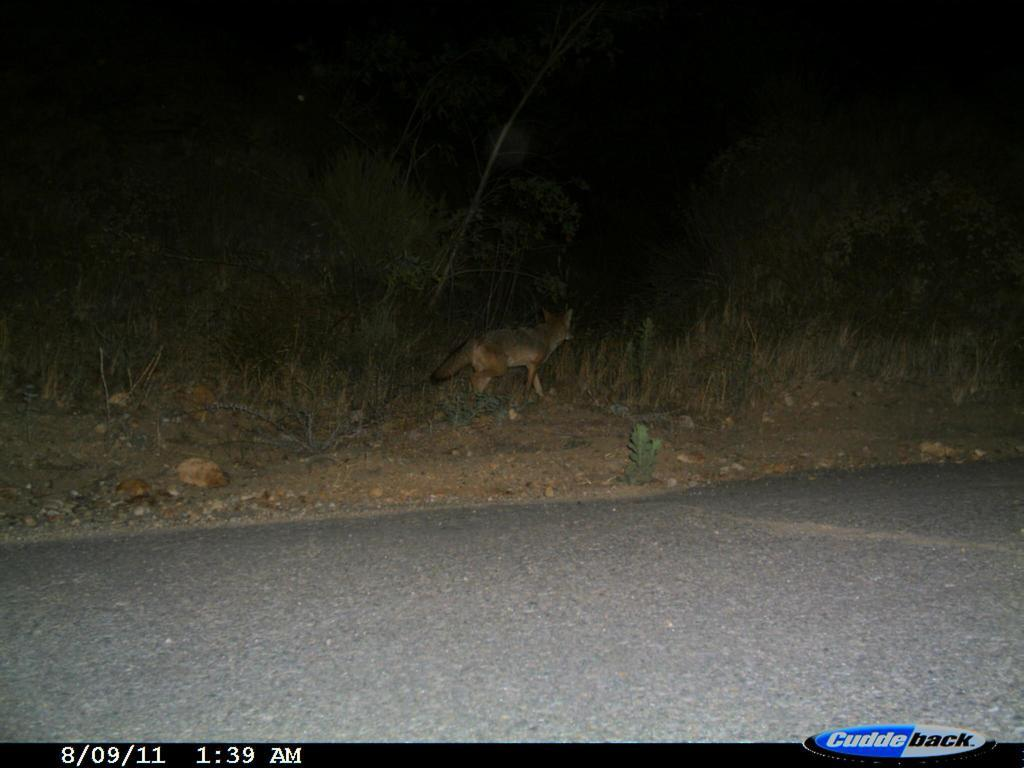coyote: (415, 301, 590, 411)
